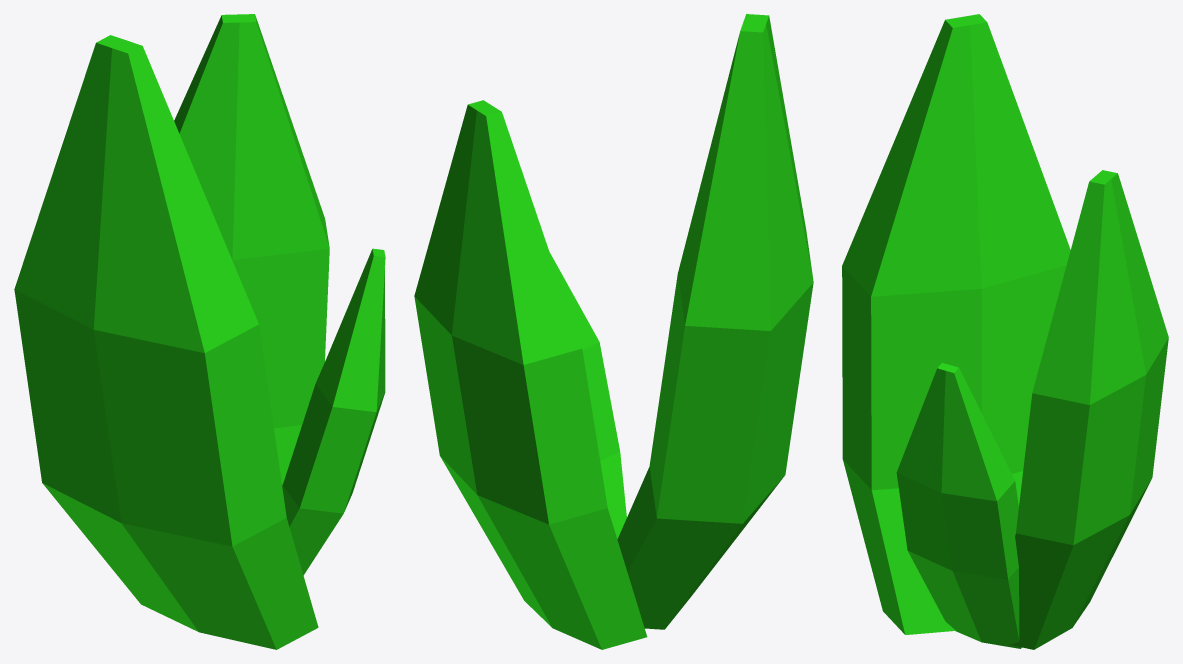
Rendered from Grass.fbx.
The picture shows the model from 3 angles, left to right: view 1: azimuth 30°, elevation 25°; view 2: azimuth 150°, elevation 25°; view 3: azimuth 270°, elevation 25°; orthographic projection. The views are drawn at different scales.
Parts seen in each view (by area): view 1: Cube.002, Cube, Cube.001; view 2: Cube, Cube.002, Cube.001; view 3: Cube.002, Cube, Cube.001.
Part boxes in pixels (x1,y1,x2,y2): Cube.002: [14, 35, 318, 649]; Cube: [174, 14, 329, 485]; Cube.001: [282, 248, 385, 575]; Cube: [414, 100, 647, 649]; Cube.002: [617, 14, 813, 629]; Cube.001: [549, 252, 626, 538]; Cube.002: [842, 14, 1070, 634]; Cube: [1009, 170, 1168, 649]; Cube.001: [896, 363, 1021, 648].
Size of the model in its own units: 391 by 675 by 366.
